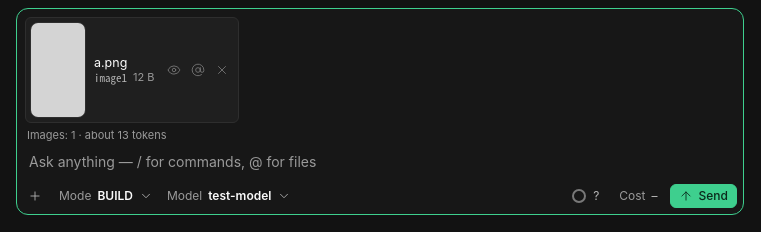
Test case: references › the chip button inserts the reference at the caret
Click the button named "Refer to image1 in the message": (198, 70) [186,58,210,82]
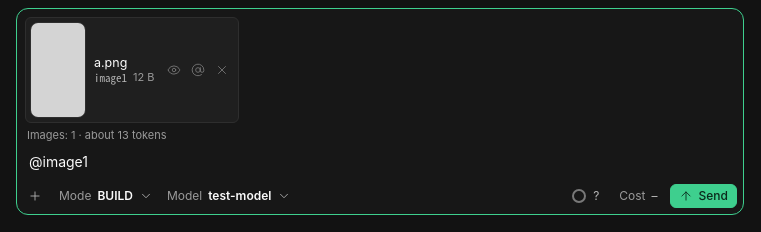
Now the dropdown named "Message" holds "@image1 ", box [17,144,743,180]
